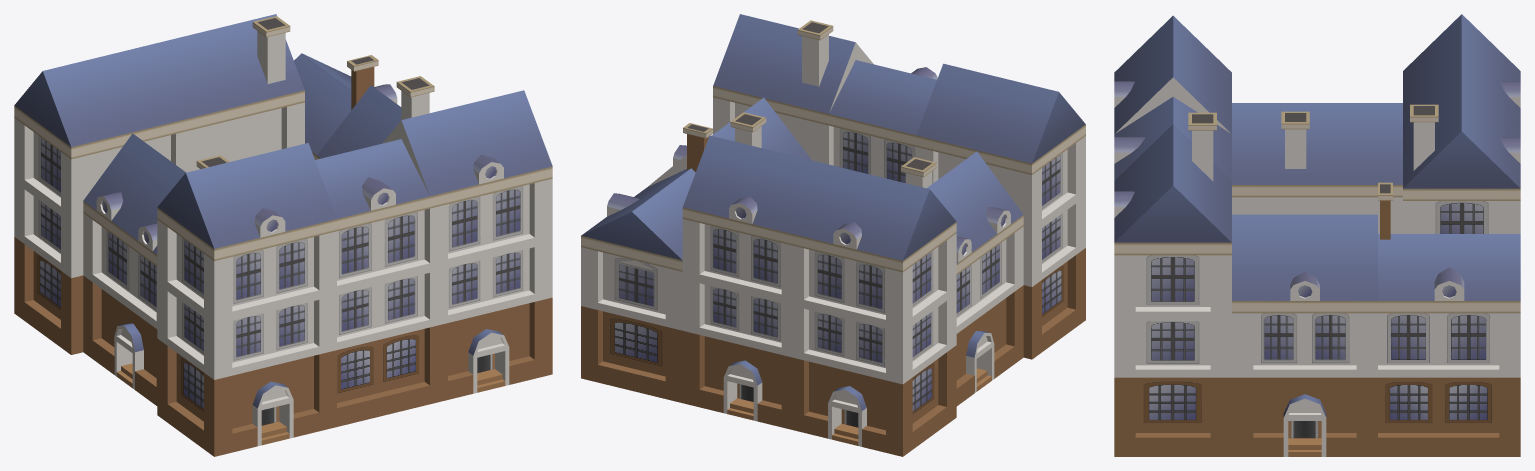
Rendered from Bat_Habitation.fbx.
3 views of the same model, side by side, from view 1: azimuth 30°, elevation 25°; view 2: azimuth 150°, elevation 25°; view 3: azimuth 270°, elevation 25° (orthographic). The views are drawn at different scales.
Visible parts, largest first — view 1: Bat_habitation; view 2: Bat_habitation; view 3: Bat_habitation.
Boxes of the visible parts, <box> form: Bat_habitation: <box>14,14,552,456</box>; Bat_habitation: <box>581,14,1085,456</box>; Bat_habitation: <box>1114,14,1520,456</box>.
Bounding box in the file's own units: 38 × 30 × 38.
